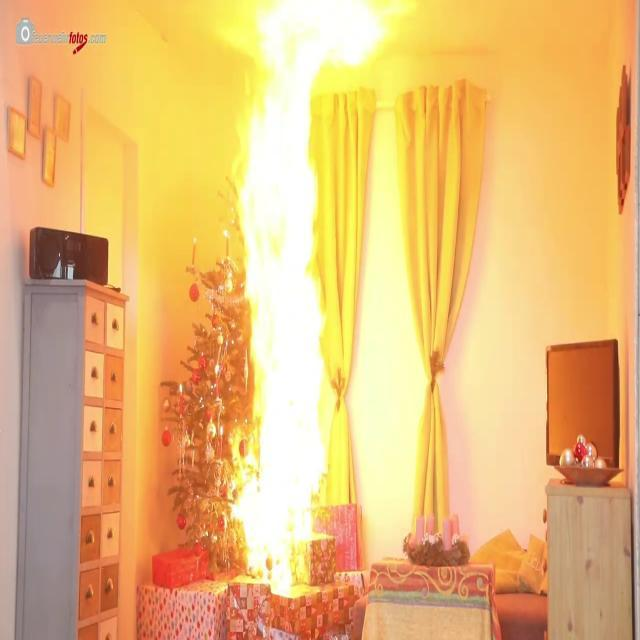Fire: (232, 2, 334, 589)
